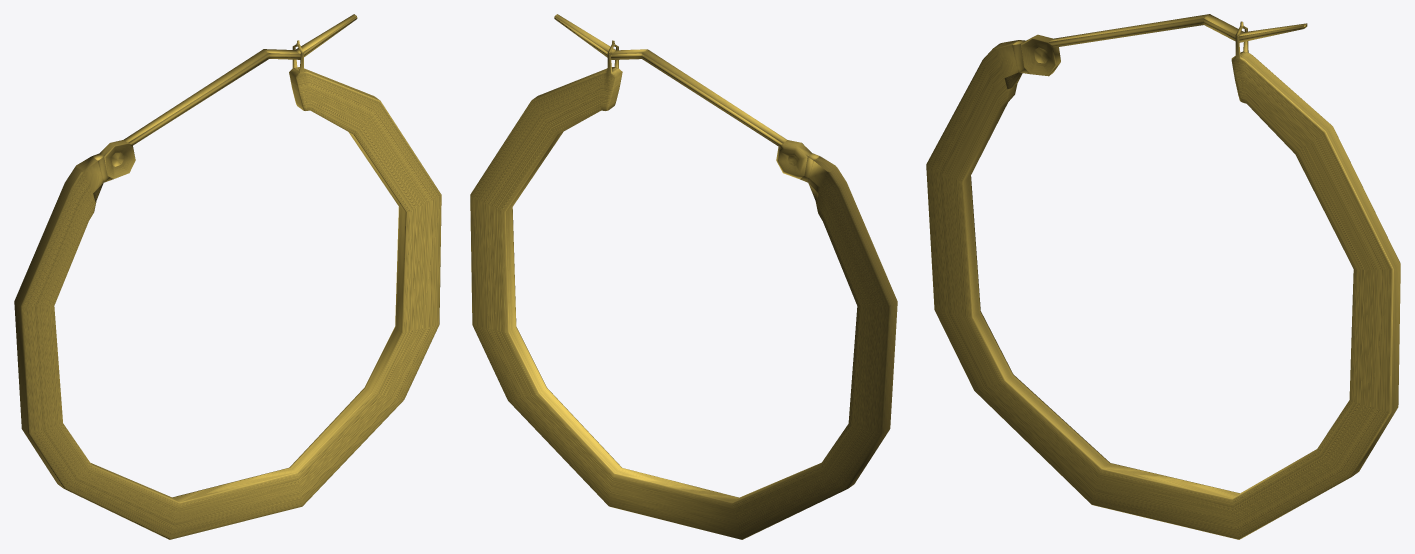
Rendered from tashaearring.fbx.
3 views of the same model, side by side, from view 1: azimuth 30°, elevation 25°; view 2: azimuth 150°, elevation 25°; view 3: azimuth 330°, elevation 25° (orthographic). The views are drawn at different scales.
Parts seen in each view (by area): view 1: tashaearring; view 2: tashaearring; view 3: tashaearring.
Boxes of the visible parts, bbox=[...] form: tashaearring: bbox=[14, 14, 441, 539]; tashaearring: bbox=[470, 14, 897, 539]; tashaearring: bbox=[926, 14, 1400, 539].
Bounding box in the file's own units: 3.17 × 3.42 × 0.1187.
